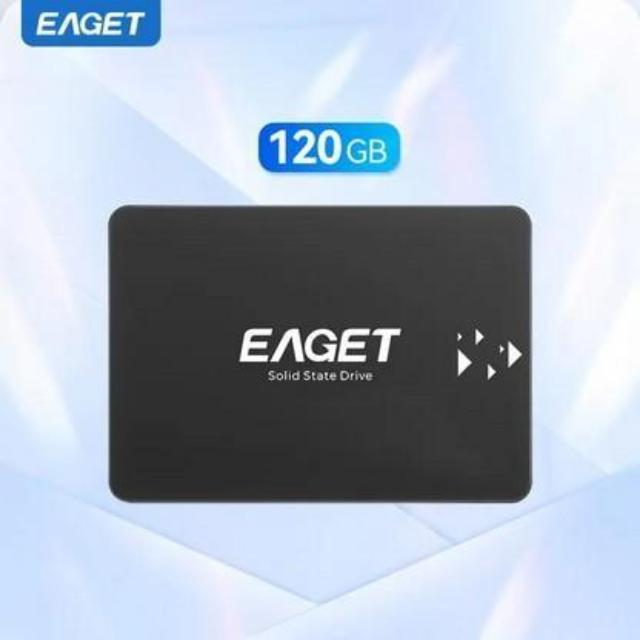DISK: (98, 190, 544, 508)
